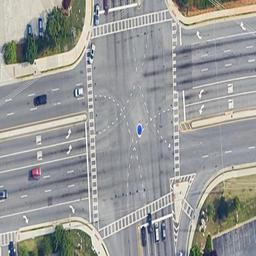Car: (33, 92, 49, 106), (145, 212, 154, 232), (87, 44, 96, 64), (94, 3, 101, 27), (28, 166, 42, 177), (161, 220, 168, 241), (72, 86, 84, 98), (141, 227, 147, 246), (1, 188, 8, 200), (155, 221, 159, 242), (104, 1, 110, 15)
Crosswalk: (97, 191, 173, 240), (86, 44, 99, 231), (90, 10, 171, 38), (173, 21, 182, 181), (183, 197, 194, 218)
Solid White Line: (1, 196, 90, 218), (1, 136, 86, 157), (1, 151, 88, 171), (186, 86, 256, 104), (181, 30, 256, 42), (190, 74, 256, 85)
Stopline: (139, 211, 173, 227), (100, 1, 139, 13), (181, 91, 188, 121)
White Dashed Line: (2, 80, 84, 100), (1, 98, 82, 116), (9, 183, 77, 200), (198, 44, 256, 57), (199, 58, 255, 70), (199, 146, 255, 158), (37, 169, 76, 179)
